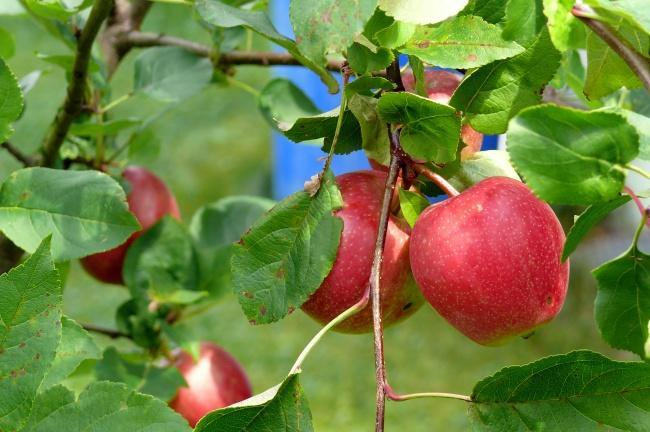apple: (407, 178, 569, 346), (302, 166, 420, 337), (72, 160, 190, 284), (143, 336, 253, 420)
